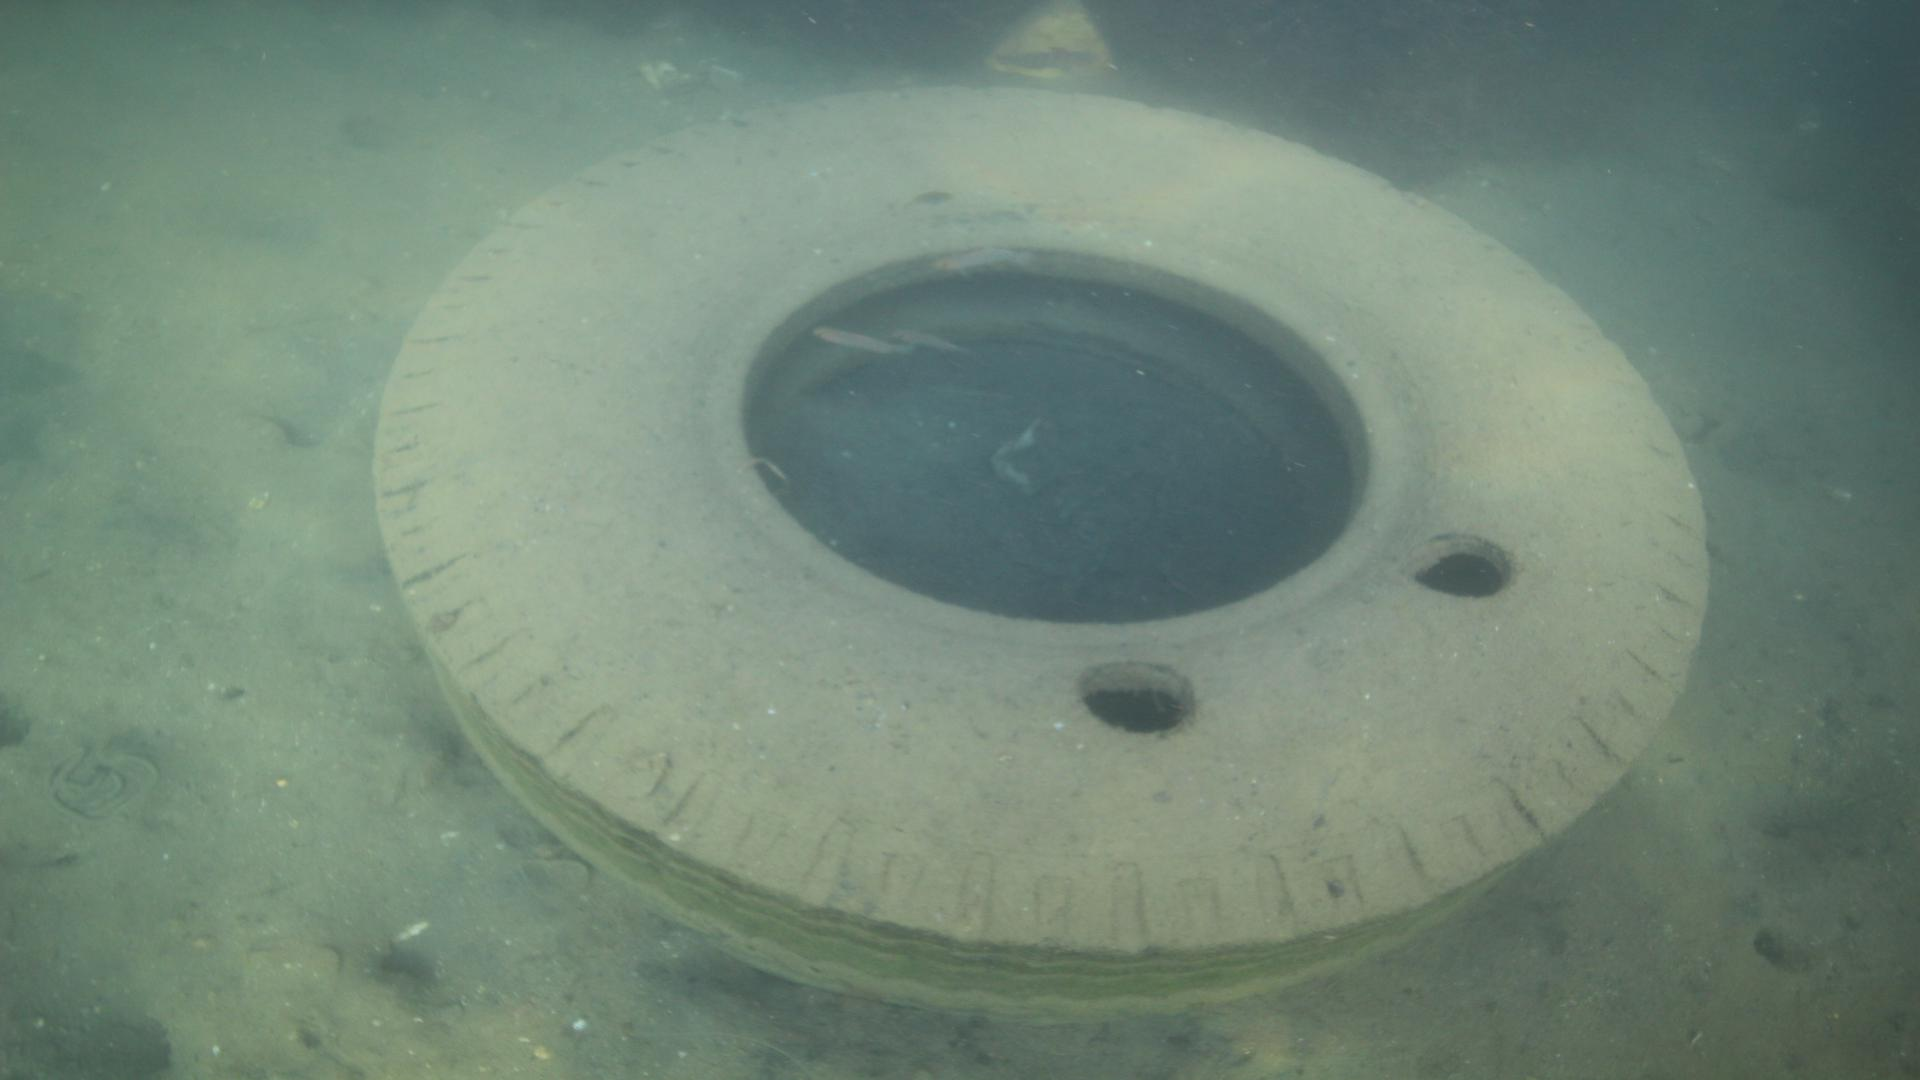tire: (372, 80, 1712, 1025)
